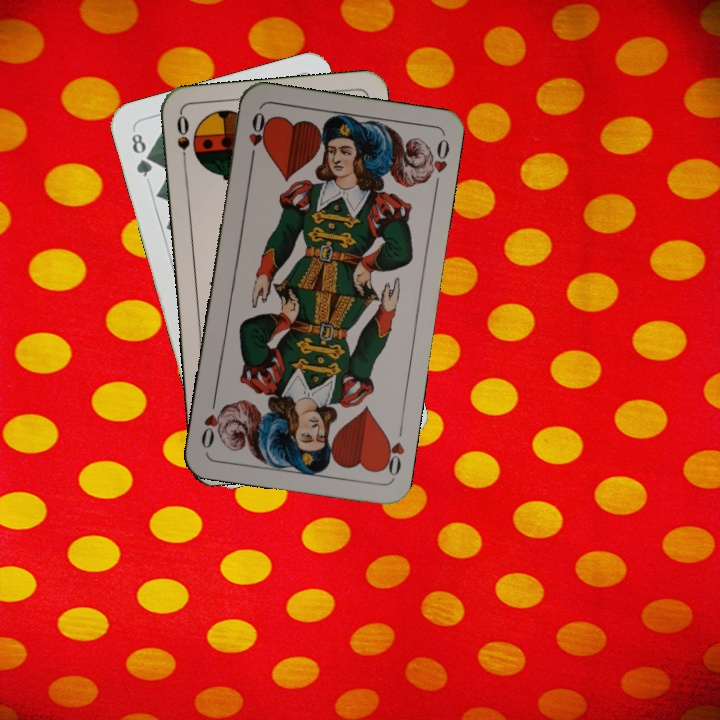G8: (127, 126, 155, 180)
HO: (377, 431, 408, 479), (244, 108, 269, 166)
SO: (172, 111, 192, 170)
